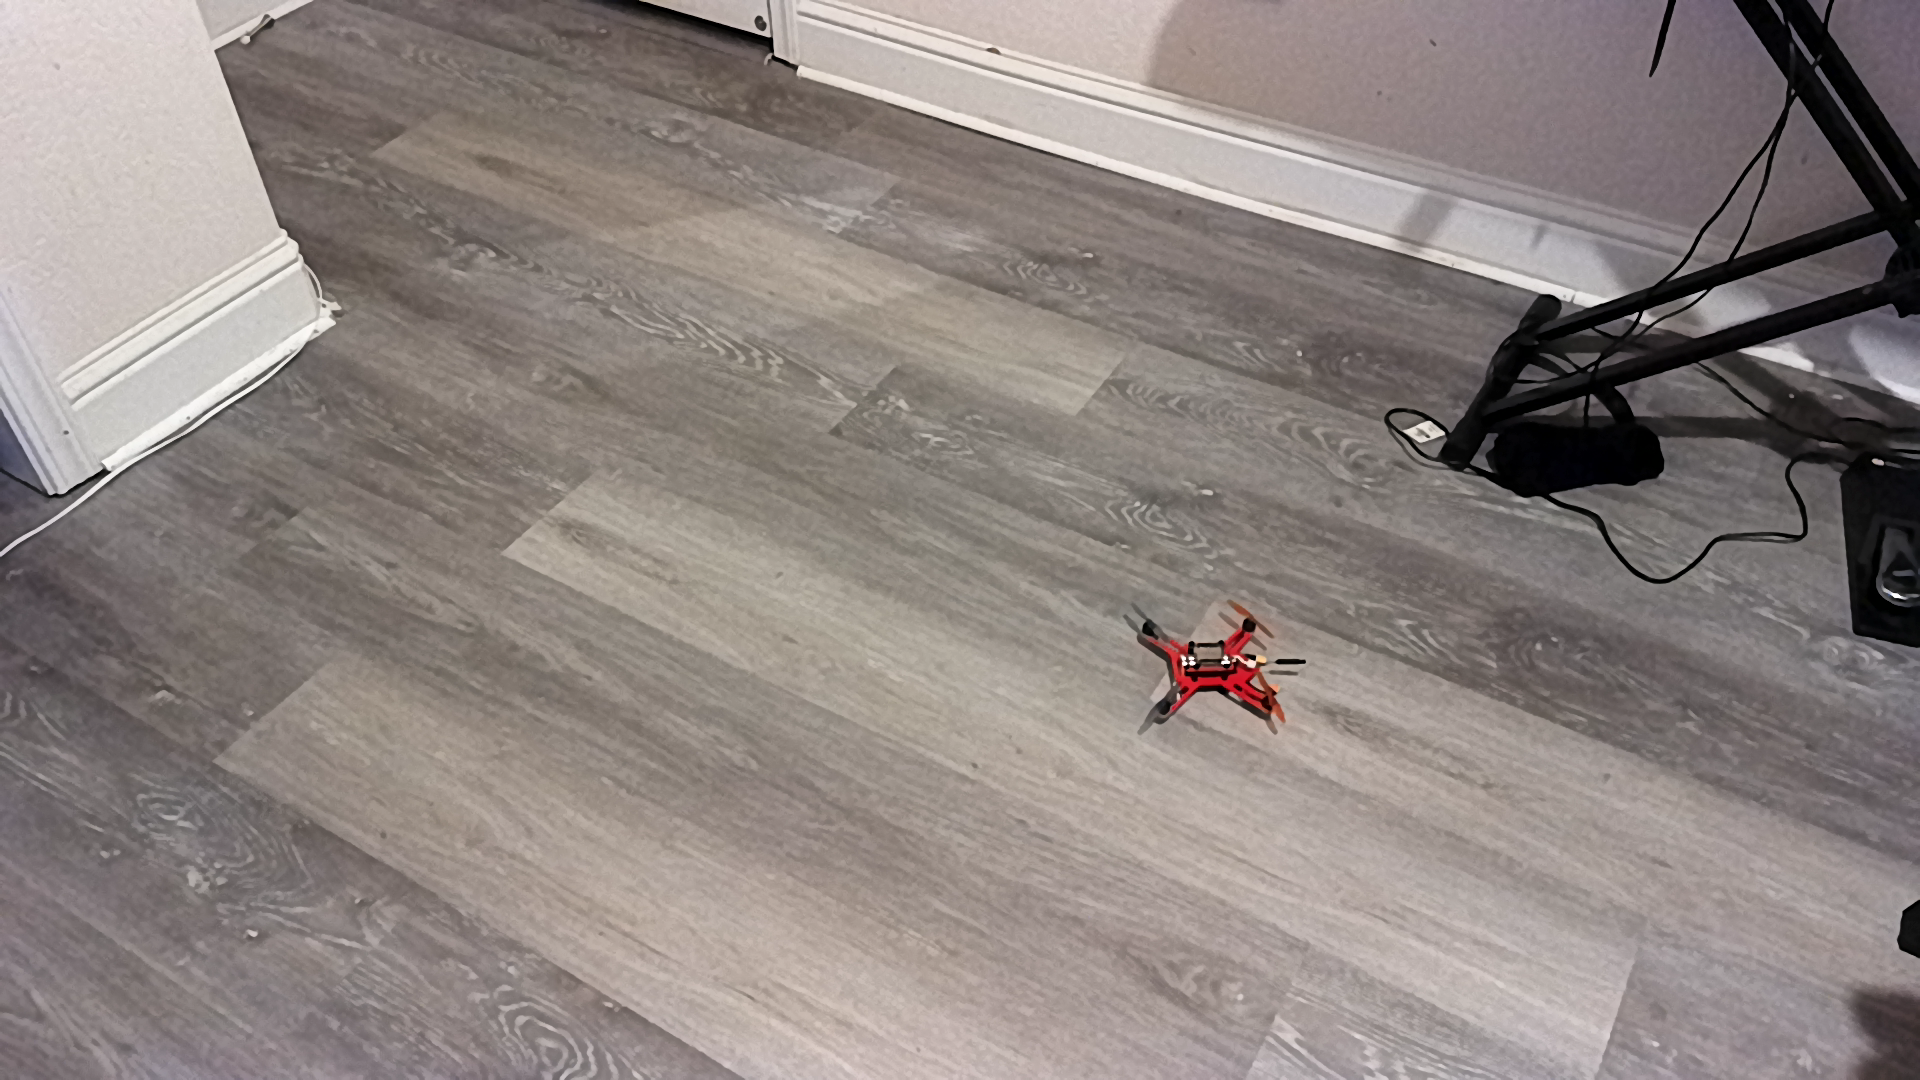drone: (1105, 593, 1315, 749)
